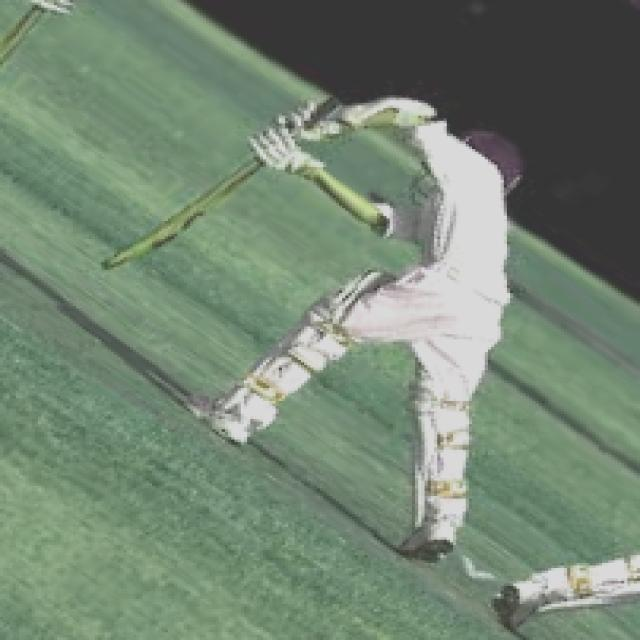bat: (93, 132, 288, 280)
